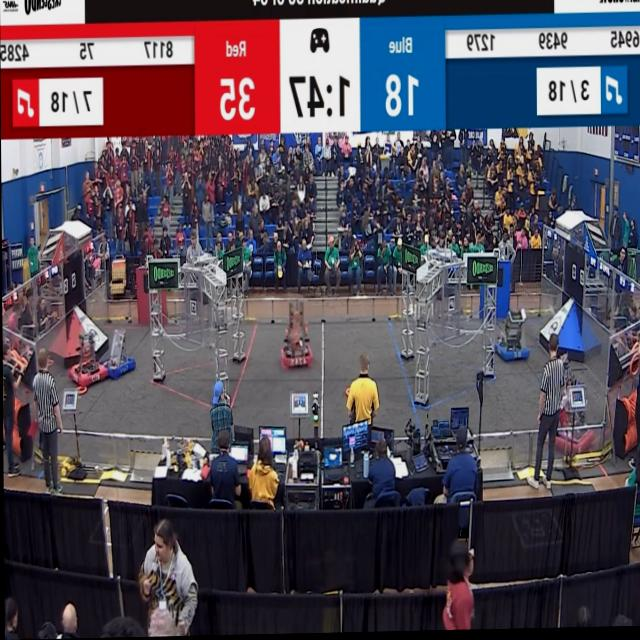Robot: (67, 314, 108, 392), (279, 303, 312, 377), (495, 312, 528, 368), (105, 326, 136, 382)
